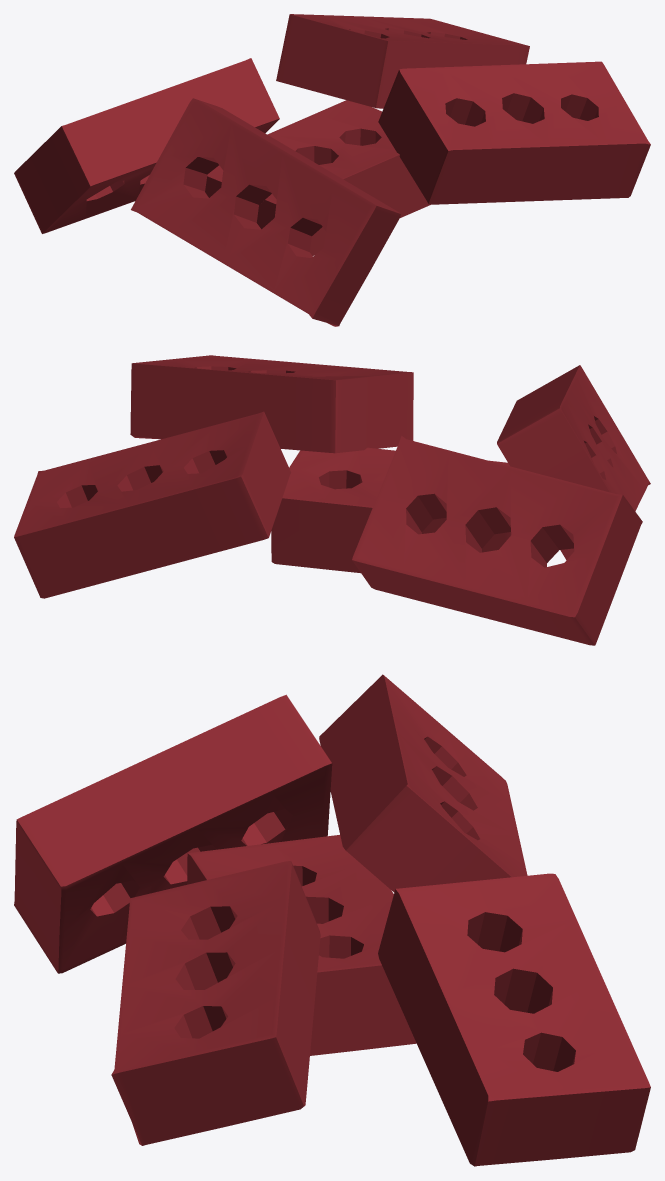
The model's file is BrickPile.fbx.
3 views of the same model, one above another, from view 1: azimuth 30°, elevation 25°; view 2: azimuth 150°, elevation 25°; view 3: azimuth 270°, elevation 25° (orthographic). The views are drawn at different scales.
Parts seen in each view (by area): view 1: pCube1, pCube3, pCube2, pCube4, Brick:pCube1; view 2: pCube2, pCube4, pCube1, pCube3, Brick:pCube1; view 3: pCube4, pCube1, pCube3, pCube2, Brick:pCube1.
Boxes of the visible parts, x1,y1,x2,y2 form: pCube1: (378,61,650,204); pCube3: (131,98,400,326); pCube2: (14,58,279,233); pCube4: (276,14,529,108); Brick:pCube1: (205,100,430,255); pCube2: (352,436,642,645); pCube4: (14,411,291,598); pCube1: (130,355,413,453); pCube3: (497,365,650,559); Brick:pCube1: (271,447,511,573); pCube4: (378,873,650,1166); pCube1: (111,861,320,1145); pCube3: (14,694,332,973); pCube2: (319,674,527,892); Brick:pCube1: (187,835,416,1055).
Bounding box in the file's own units: 55.34 × 18.78 × 44.96.
